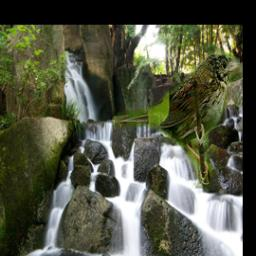Sparrow: (115, 52, 240, 190)
